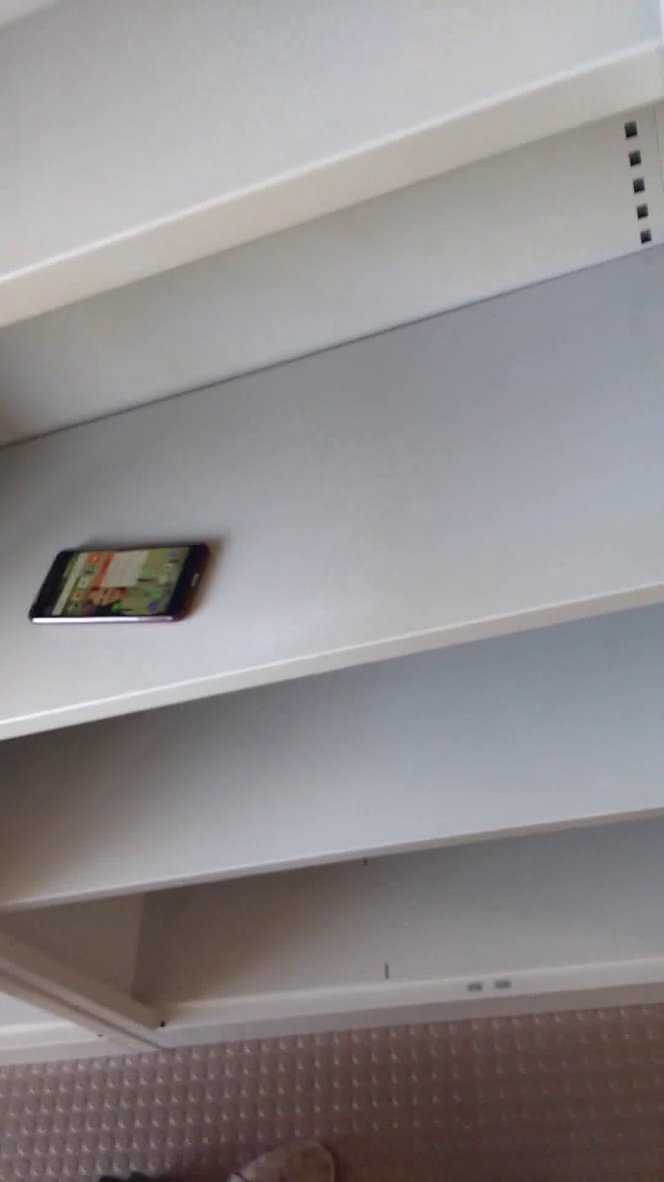phone: (20, 524, 223, 639)
